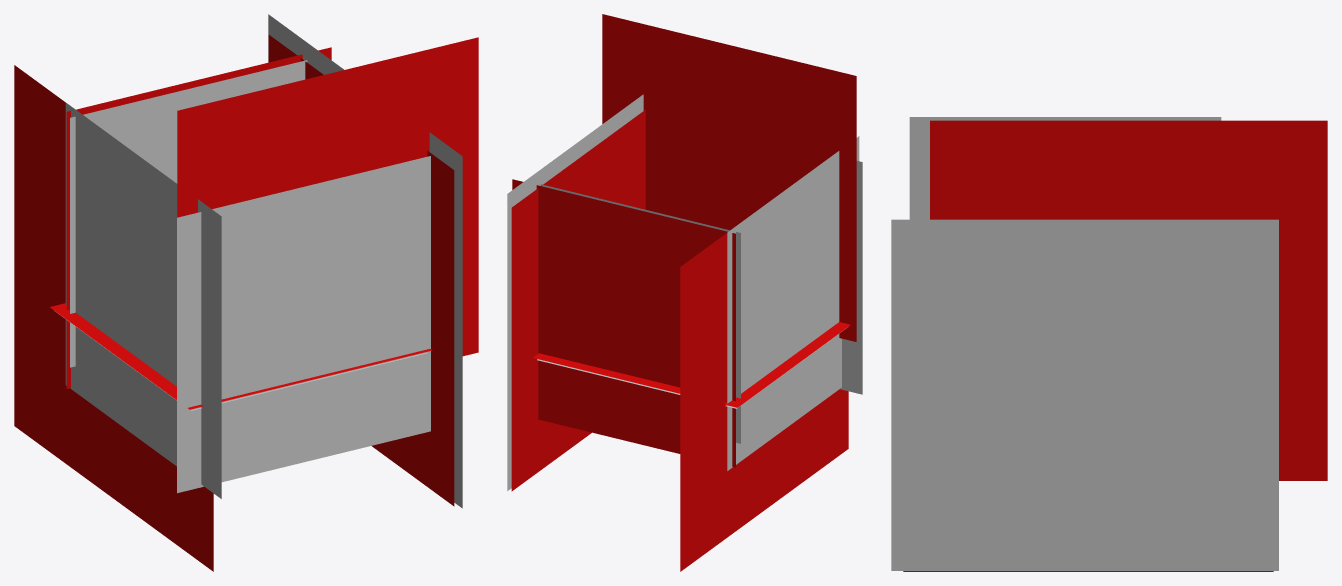
Rendered from collision-planes.dae.
The picture shows the model from 3 angles, left to right: view 1: azimuth 30°, elevation 25°; view 2: azimuth 150°, elevation 25°; view 3: azimuth 270°, elevation 25°; orthographic projection. The views are drawn at different scales.
Visible parts, largest first — view 1: Plane_003, Plane_009, Plane_005, Plane_006, Plane_004, Plane_007, Plane_002, Plane_008, Plane_001; view 2: Plane_009, Plane_008, Plane_005, Plane_006, Plane_004, Plane_002, Plane_001, Plane_003, Plane_007; view 3: Plane_002, Plane_006, Plane_005.
Part boxes in pixels (x1,y1,x2,y2): Plane_003: (177, 156, 430, 493); Plane_009: (177, 37, 478, 356); Plane_005: (65, 102, 221, 498); Plane_006: (14, 65, 213, 571); Plane_004: (268, 35, 454, 506); Plane_007: (70, 60, 307, 367); Plane_002: (268, 14, 462, 508); Plane_008: (66, 47, 331, 388); Plane_001: (50, 303, 432, 409); Plane_009: (602, 14, 856, 341); Plane_008: (512, 179, 735, 467); Plane_005: (727, 136, 859, 470); Plane_006: (680, 233, 848, 571); Plane_004: (511, 110, 645, 491); Plane_002: (507, 94, 643, 490); Plane_001: (533, 322, 850, 407); Plane_003: (840, 161, 862, 394); Plane_007: (540, 184, 740, 443); Plane_002: (891, 219, 1278, 570); Plane_006: (930, 120, 1327, 480); Plane_005: (909, 117, 1221, 219).
Bounding box in the file's own units: 22.48 × 27.95 × 32.2.
